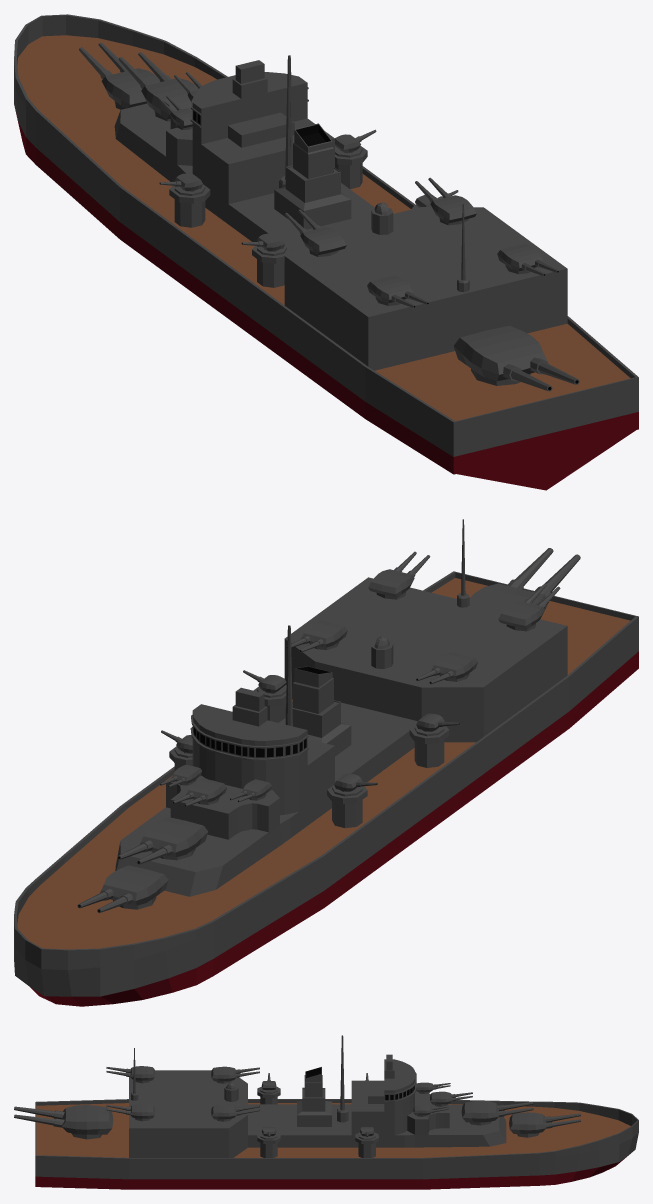
Rendered from light_cruiser.fbx.
The picture shows the model from 3 angles, top to bottom: view 1: azimuth 30°, elevation 25°; view 2: azimuth 150°, elevation 25°; view 3: azimuth 270°, elevation 25°; orthographic projection. The views are drawn at different scales.
Parts seen in each view (by area): view 1: Plane, działo1, działo2, działo3, działo9, działo7, działo10, działo8; view 2: Plane, działo3, działo2, działo1, działo8, działo10, działo9, działo7, działo6; view 3: Plane, działo1, działo3, działo2, działo7, działo9, działo8, działo10, działo6, działo4, działo5.
Boxes of the visible parts, x1,y1,x2,y2 form: Plane: [14, 14, 638, 490]; działo1: [453, 325, 579, 391]; działo2: [118, 52, 198, 121]; działo3: [79, 42, 159, 109]; działo9: [285, 209, 346, 256]; działo7: [415, 177, 476, 225]; działo10: [367, 275, 429, 307]; działo8: [497, 244, 559, 276]; Plane: [14, 519, 638, 1006]; działo3: [77, 865, 168, 912]; działo2: [117, 817, 208, 864]; działo1: [469, 548, 580, 618]; działo8: [368, 551, 430, 599]; działo10: [498, 583, 560, 631]; działo9: [416, 652, 477, 684]; działo7: [286, 620, 347, 652]; działo6: [172, 778, 226, 806]; Plane: [35, 1035, 638, 1189]; działo1: [14, 1105, 113, 1139]; działo3: [509, 1112, 580, 1137]; działo2: [461, 1101, 533, 1125]; działo7: [211, 1104, 259, 1121]; działo9: [211, 1066, 259, 1083]; działo8: [106, 1104, 155, 1121]; działo10: [106, 1066, 155, 1083]; działo6: [430, 1091, 472, 1106]; działo4: [413, 1105, 448, 1116]; działo5: [416, 1082, 450, 1093].
Size of the model in its own units: 74.03 by 80.81 by 311.
